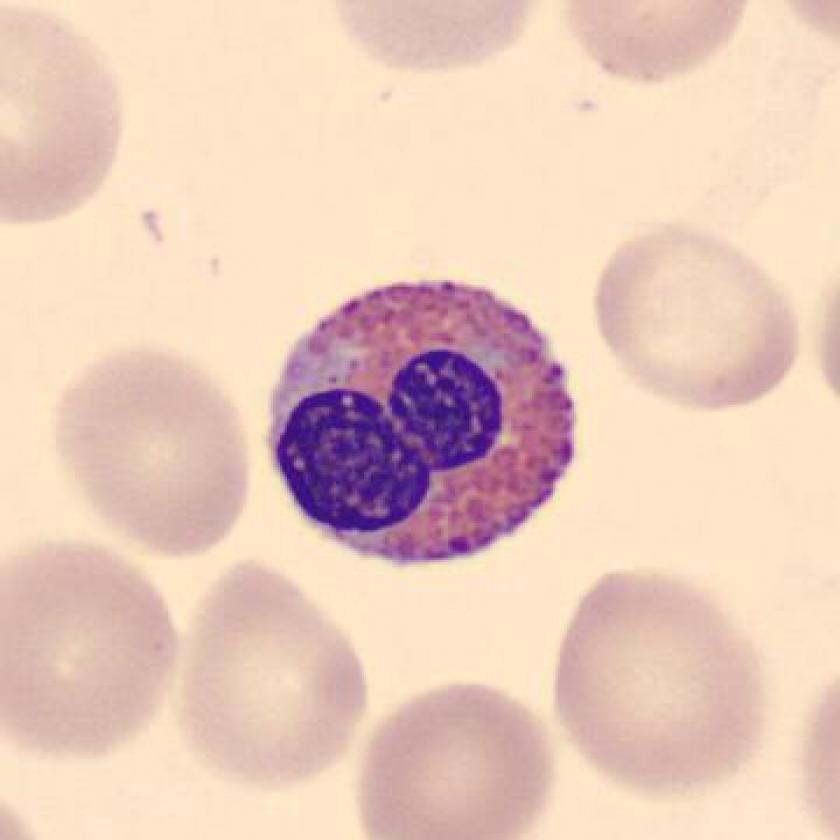eosinophil: (256, 262, 585, 589)
